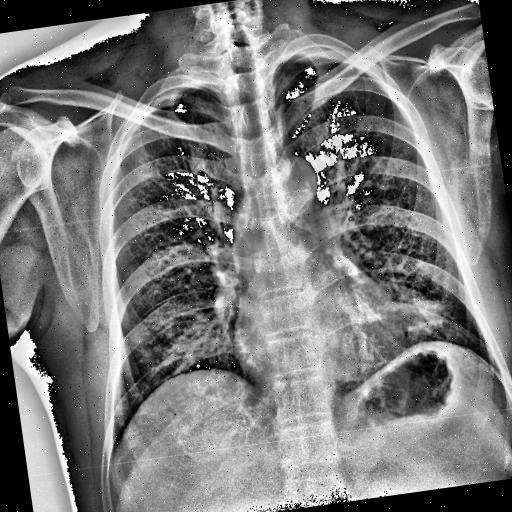0- Aortic enlargement: (272, 152, 320, 202)
11- Pleural thickening: (288, 42, 348, 70), (146, 86, 203, 110)
6- Infiltration: (392, 284, 458, 342)
7- Lung Opacity: (390, 274, 464, 349)
